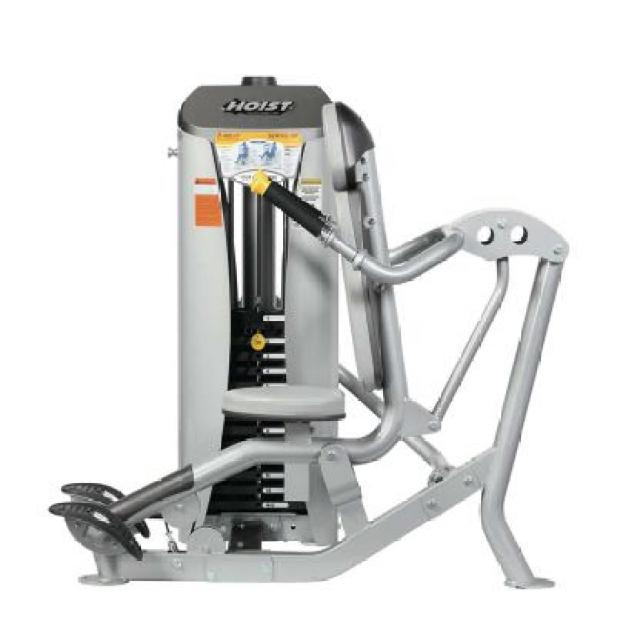seated dip machine: (52, 76, 571, 590)
